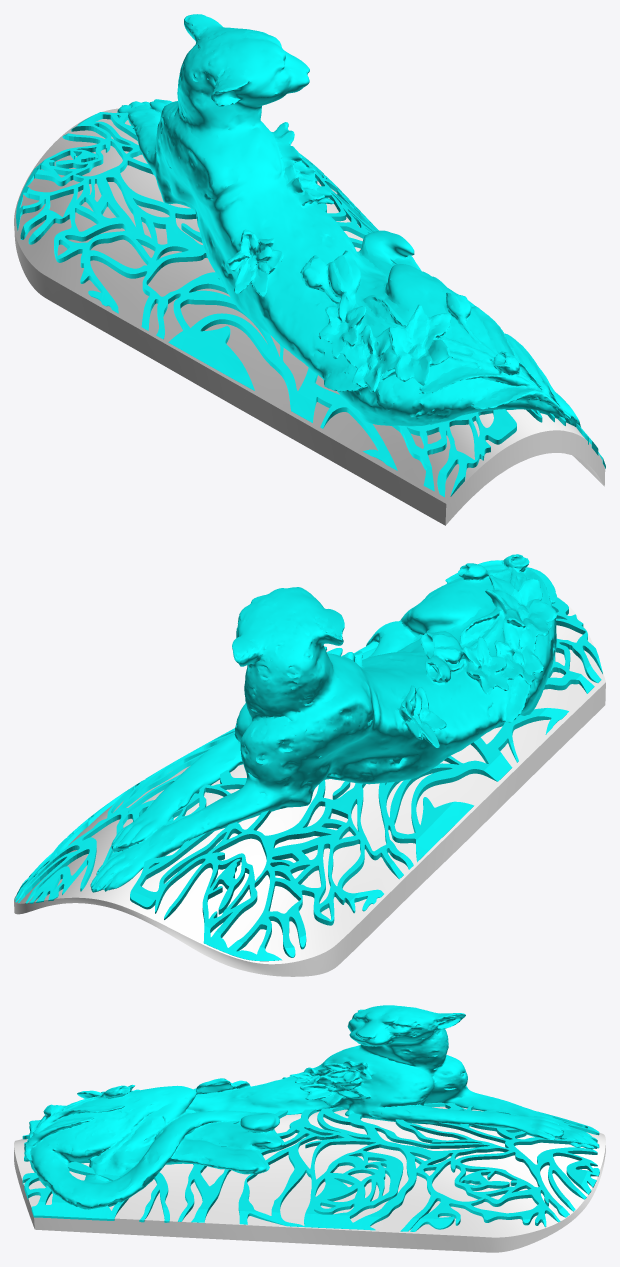
File: leopard-rose-coffin-web.glb
The picture shows the model from 3 angles, top to bottom: view 1: azimuth 30°, elevation 25°; view 2: azimuth 150°, elevation 25°; view 3: azimuth 270°, elevation 25°; orthographic projection. The views are drawn at different scales.
Size of the model in its own units: 0.0137 by 0.0125 by 0.035.
